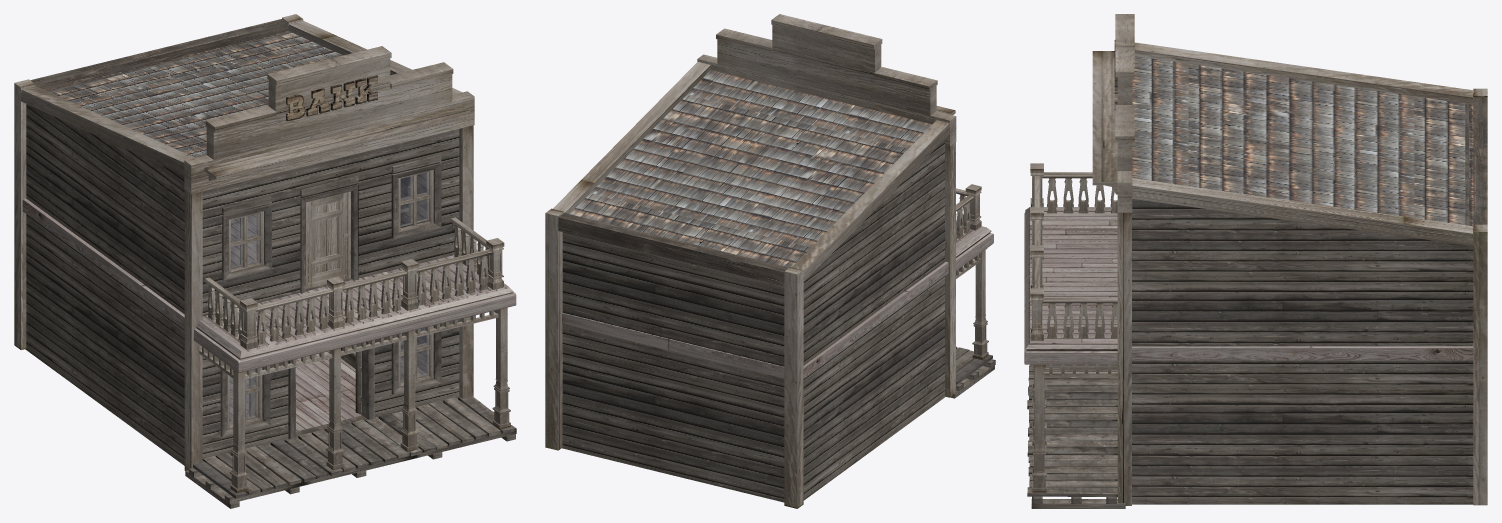
3 views of the same model, side by side, from view 1: azimuth 30°, elevation 25°; view 2: azimuth 150°, elevation 25°; view 3: azimuth 270°, elevation 25° (orthographic). The views are drawn at different scales.
Visible parts, largest first — view 1: interior_exterior_0, board_signpost_25, balcony_32, parapet.002_44, gasket_24, loft_45, door_2_59, gasket.002_29, gasket.004_31, floor_34, gasket.003_27, gasket.001_26 (+36 smaller); view 2: interior_exterior_0, board_signpost_25, floor_34, gasket.003_27, gasket.004_31, gasket.006_28, gasket.002_29, gasket.005_30, gasket_24, pillar_33, balcony_32, parapet_42 (+1 smaller); view 3: interior_exterior_0, balcony_32, gasket.005_30, floor_34, gasket.002_29, gasket.001_26, gasket.006_28, board_signpost_25, loft_45, parapet.001_43, gasket.004_31, parapet_42 (+21 smaller).
Part boxes in pixels (box(x1,y1,x2,y2)): interior_exterior_0: box(25, 31, 459, 465); board_signpost_25: box(184, 46, 474, 193); balcony_32: box(194, 255, 516, 372); parapet.002_44: box(256, 249, 492, 344); gasket_24: box(184, 189, 202, 470); loft_45: box(204, 105, 473, 180); door_2_59: box(306, 191, 350, 288); gasket.002_29: box(21, 86, 194, 175); gasket.004_31: box(30, 19, 288, 90); floor_34: box(22, 198, 256, 329); gasket.003_27: box(14, 79, 35, 349); gasket.001_26: box(459, 125, 473, 398); interior_exterior_0: box(562, 70, 945, 502); board_signpost_25: box(697, 14, 956, 146); floor_34: box(562, 261, 948, 378); gasket.003_27: box(784, 267, 803, 508); gasket.004_31: box(558, 213, 788, 285); gasket.006_28: box(545, 208, 564, 450); gasket.002_29: box(792, 120, 949, 281); gasket.005_30: box(553, 62, 710, 213); gasket_24: box(945, 142, 955, 397); pillar_33: box(972, 248, 988, 360); balcony_32: box(956, 220, 993, 270); parapet_42: box(956, 195, 973, 240); interior_exterior_0: box(1132, 56, 1473, 504); balcony_32: box(1024, 207, 1117, 364); gasket.005_30: box(1132, 178, 1473, 246); floor_34: box(1132, 346, 1473, 360); gasket.002_29: box(1134, 42, 1473, 104); gasket.001_26: box(1117, 212, 1131, 505); gasket.006_28: box(1473, 224, 1487, 505); board_signpost_25: box(1115, 14, 1134, 212); loft_45: box(1092, 51, 1117, 194); parapet.001_43: box(1042, 297, 1117, 338); gasket.004_31: box(1473, 97, 1487, 224); parapet_42: box(1042, 172, 1117, 213).
Size of the model in its own units: 7.22 by 9.07 by 9.68.
Materials: 9 (8 with a texture image).
